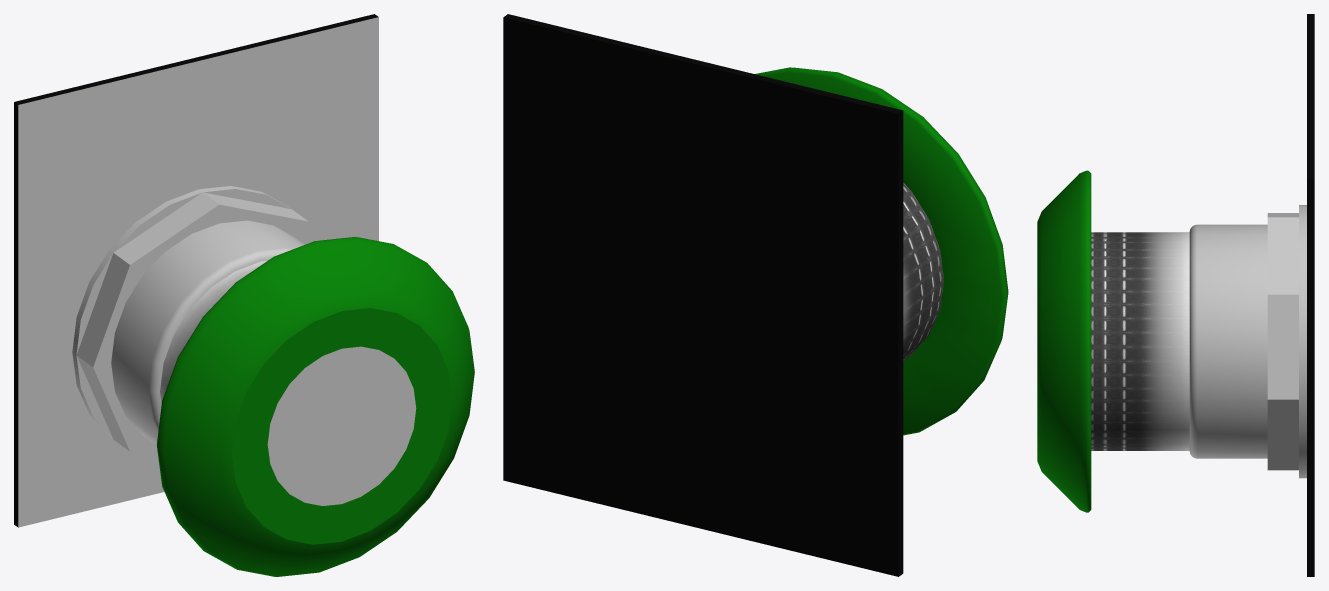
Rendered from push_button_mushroom.dae.
The picture shows the model from 3 angles, left to right: view 1: azimuth 30°, elevation 25°; view 2: azimuth 150°, elevation 25°; view 3: azimuth 270°, elevation 25°; orthographic projection. The views are drawn at different scales.
Parts seen in each view (by area): view 1: button (×3), placard (×2), housing_nut, button_housing; view 2: placard, button (×2); view 3: button (×2), button_housing, housing_nut, placard.
Part boxes in pixels (left/top/right/bottom): button (×3): left=156, top=237, right=474, bottom=576; placard (×2): left=14, top=14, right=378, bottom=527; housing_nut: left=72, top=186, right=316, bottom=457; button_housing: left=111, top=220, right=304, bottom=445; placard: left=503, top=14, right=903, bottom=576; button (×2): left=755, top=67, right=1008, bottom=435; button (×2): left=1037, top=170, right=1189, bottom=512; button_housing: left=1189, top=224, right=1267, bottom=458; housing_nut: left=1267, top=205, right=1306, bottom=478; placard: left=1307, top=14, right=1314, bottom=576.
Bounding box in the file's own units: 1.97 × 1.4 × 2.22.
